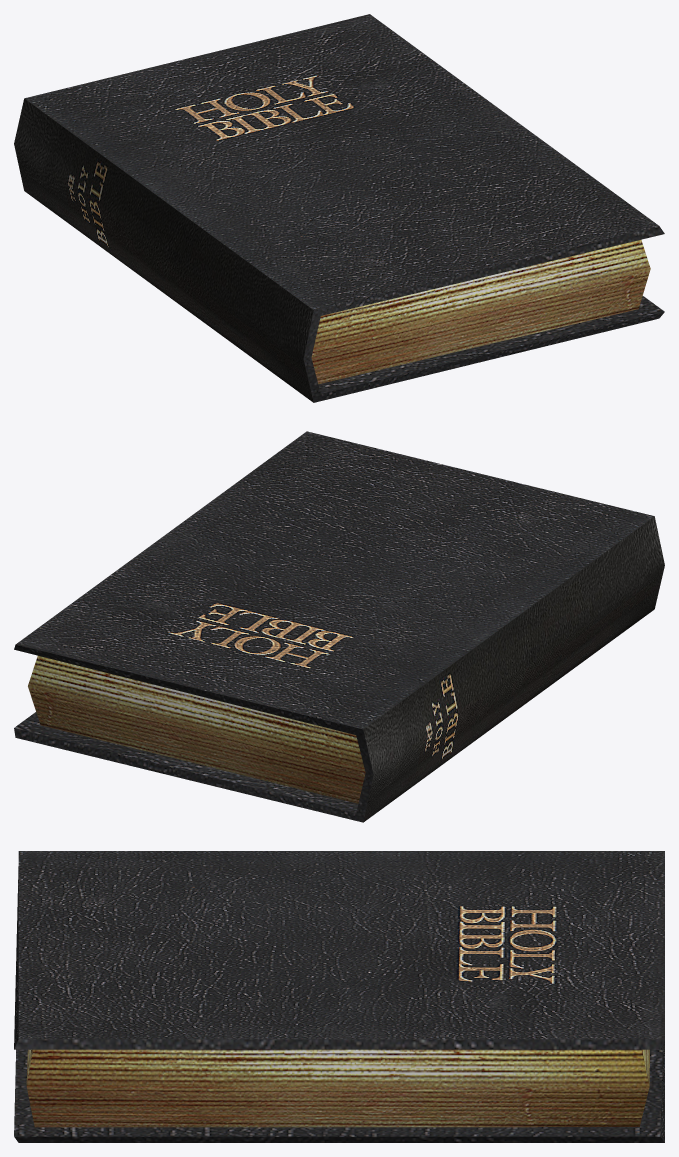
File: Bible.fbx
3 views of the same model, one above another, from view 1: azimuth 30°, elevation 25°; view 2: azimuth 150°, elevation 25°; view 3: azimuth 270°, elevation 25° (orthographic). The views are drawn at different scales.
Parts seen in each view (by area): view 1: Bible; view 2: Bible; view 3: Bible.
Boxes of the visible parts, <box> form: Bible: <box>14,14,664,402</box>; Bible: <box>14,431,664,822</box>; Bible: <box>14,851,664,1142</box>.
Bounding box in the file's own units: 0.2705 × 0.0666 × 0.3801.
